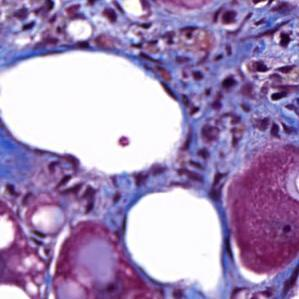inflammation: (5, 1, 63, 36), (244, 56, 295, 85)
